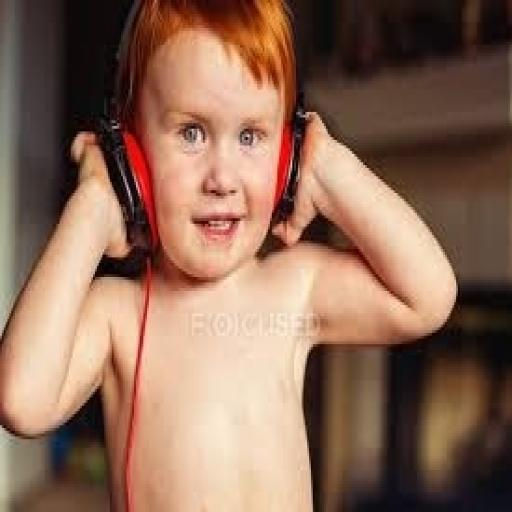listening_to_music: (0, 0, 460, 509)
